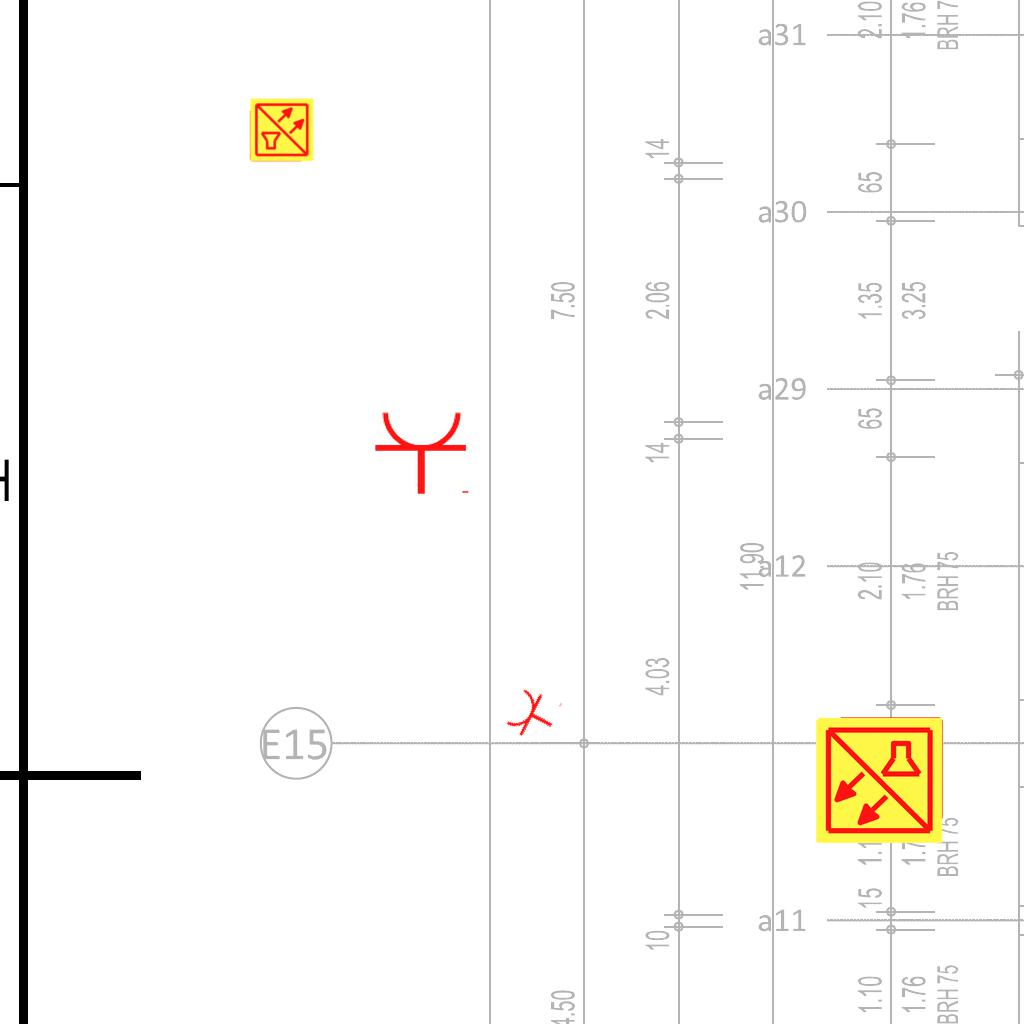OKW_Multisensormelder_(Kombination_optischer_Rauch-Kahlenmonoxid_Waerme-Melder): (813, 714, 945, 846), (249, 97, 315, 163)
Schukosteckdose_einfach: (373, 409, 473, 496), (502, 682, 565, 748)
